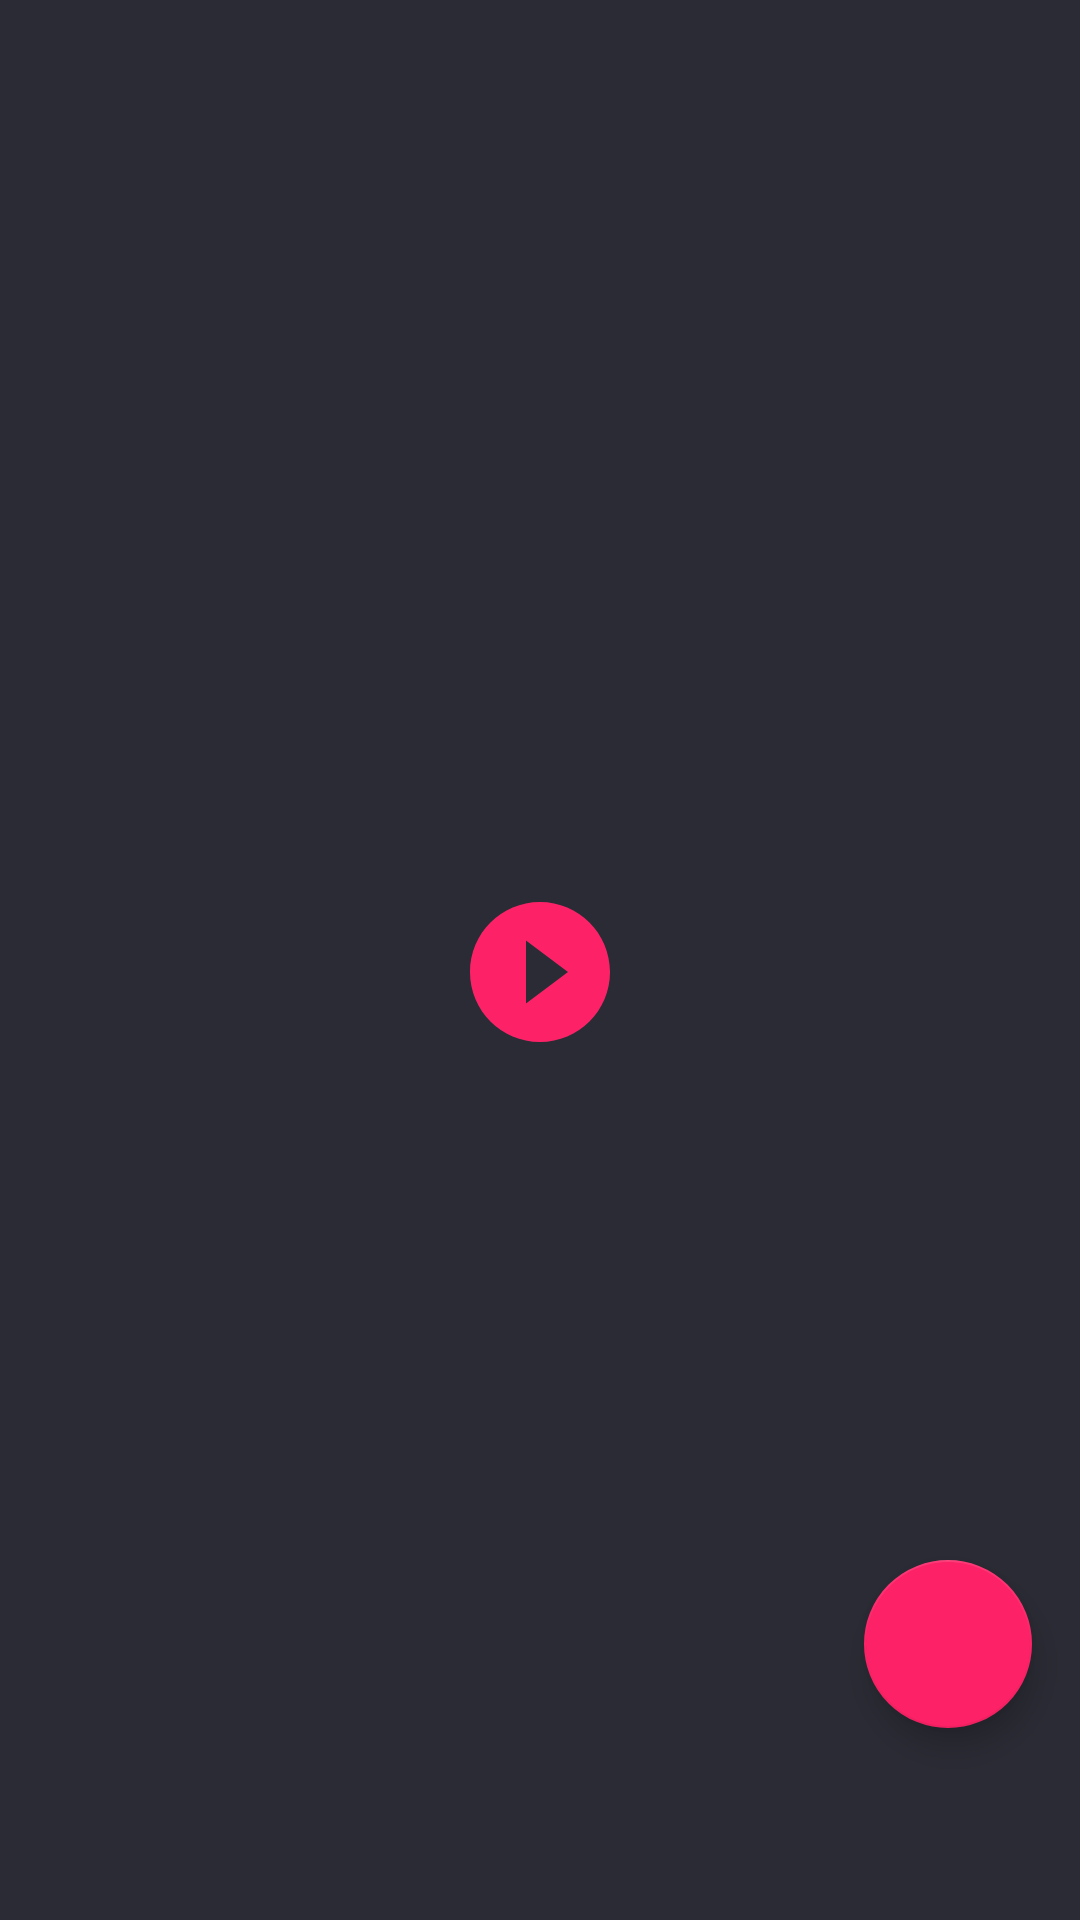

Icon bounding boxes for this 1080x1920 phone screenshot, format (x1, y1, x2, y2):
play circle: (470, 902, 610, 1042)
